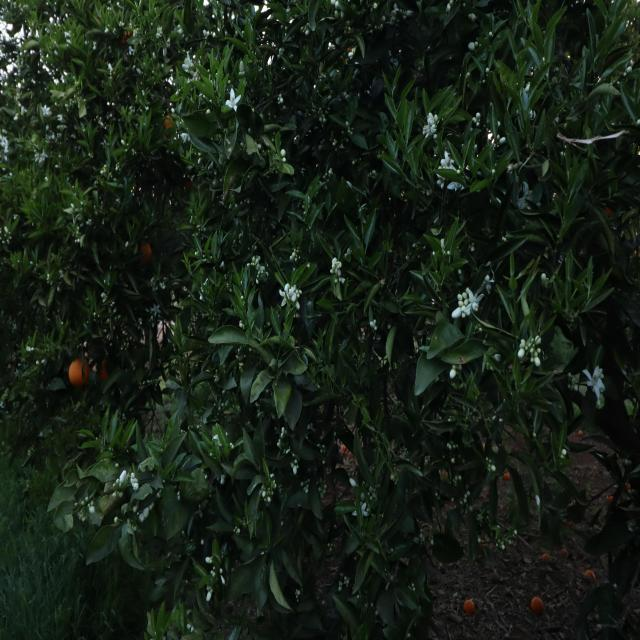Bunga: (582, 366, 605, 400), (464, 290, 484, 314), (226, 89, 241, 112), (279, 284, 293, 307), (440, 150, 454, 170), (480, 276, 494, 296), (352, 504, 368, 520), (447, 180, 465, 192), (182, 51, 191, 70), (131, 474, 139, 492), (422, 125, 432, 138), (332, 257, 342, 270), (152, 303, 162, 316), (437, 174, 445, 188), (540, 272, 548, 286), (119, 471, 127, 484), (452, 308, 462, 318), (190, 71, 200, 81), (40, 105, 50, 115), (2, 138, 8, 152), (41, 150, 48, 162), (332, 0, 341, 9), (517, 348, 525, 358), (349, 478, 357, 488), (449, 369, 457, 379), (206, 590, 212, 602), (468, 42, 476, 51), (142, 507, 148, 518), (498, 136, 506, 144), (240, 60, 244, 76), (205, 556, 213, 564), (220, 568, 224, 584), (468, 12, 476, 20), (534, 356, 540, 366), (535, 335, 541, 345), (428, 536, 434, 546), (390, 15, 396, 25), (156, 27, 162, 37), (177, 24, 183, 34), (34, 152, 40, 162), (114, 491, 122, 498), (26, 346, 34, 353), (292, 292, 297, 303), (280, 149, 286, 158), (128, 46, 134, 55), (428, 112, 434, 120), (346, 248, 352, 256), (89, 506, 95, 514), (446, 442, 452, 450), (406, 10, 414, 16), (278, 48, 284, 56), (57, 114, 63, 122), (295, 301, 300, 310), (160, 282, 166, 289), (136, 68, 142, 75), (114, 516, 119, 524), (211, 570, 216, 578), (293, 464, 297, 474), (491, 464, 496, 472), (370, 322, 376, 328), (259, 266, 265, 272), (256, 144, 262, 150), (140, 513, 144, 522), (500, 544, 506, 550), (394, 3, 398, 12), (64, 32, 70, 38), (203, 29, 208, 36), (476, 112, 480, 120), (434, 115, 438, 123), (337, 268, 341, 276), (342, 276, 346, 284), (262, 490, 266, 498), (282, 426, 286, 434), (458, 294, 462, 302), (163, 48, 167, 56), (433, 134, 438, 140), (458, 300, 463, 306), (152, 286, 158, 291), (379, 23, 383, 30), (150, 277, 154, 284), (466, 491, 471, 496), (101, 293, 106, 298), (432, 124, 436, 130), (286, 283, 290, 289), (292, 286, 296, 292), (296, 292, 300, 298), (330, 268, 334, 274), (338, 276, 342, 282), (256, 264, 260, 270), (256, 278, 260, 284), (240, 323, 244, 329), (280, 97, 284, 103), (282, 157, 286, 163), (190, 64, 196, 68), (198, 158, 202, 164), (562, 449, 566, 455), (486, 68, 490, 74), (382, 16, 386, 22), (306, 30, 310, 36), (109, 63, 112, 71), (86, 220, 90, 226), (430, 120, 434, 125), (334, 269, 338, 274), (374, 326, 378, 331), (292, 252, 296, 257), (255, 259, 259, 264), (176, 91, 180, 96), (280, 433, 284, 438), (277, 442, 281, 447), (464, 494, 468, 499), (300, 26, 304, 31), (121, 140, 125, 145), (497, 134, 500, 140), (335, 277, 338, 283), (237, 528, 240, 534), (291, 462, 294, 468), (125, 241, 128, 247), (474, 120, 478, 124), (298, 290, 302, 294), (290, 256, 294, 260), (294, 258, 298, 262), (265, 272, 269, 276), (260, 270, 264, 274), (278, 94, 282, 98), (278, 439, 282, 443), (76, 231, 80, 235), (492, 169, 495, 174), (252, 257, 255, 262), (171, 108, 174, 113), (294, 459, 297, 464), (472, 118, 476, 121), (476, 122, 479, 126), (498, 121, 500, 127), (307, 264, 310, 268), (258, 256, 261, 260), (241, 296, 244, 300), (207, 110, 210, 114), (268, 497, 270, 503), (296, 464, 299, 468), (452, 458, 454, 464), (75, 239, 78, 243), (296, 289, 298, 294), (374, 319, 376, 324), (247, 263, 250, 266), (294, 284, 296, 288), (258, 272, 260, 276), (258, 270, 260, 274), (257, 274, 259, 278), (294, 248, 296, 252), (78, 238, 80, 242), (77, 226, 79, 230), (298, 256, 300, 259), (277, 98, 280, 100), (278, 101, 280, 104), (240, 321, 242, 324), (254, 264, 256, 266), (253, 262, 254, 266), (251, 262, 252, 266), (296, 250, 298, 252)
Jeruk Sudah Matang: (68, 360, 90, 388), (98, 359, 116, 382), (140, 242, 152, 264), (165, 115, 173, 138)
